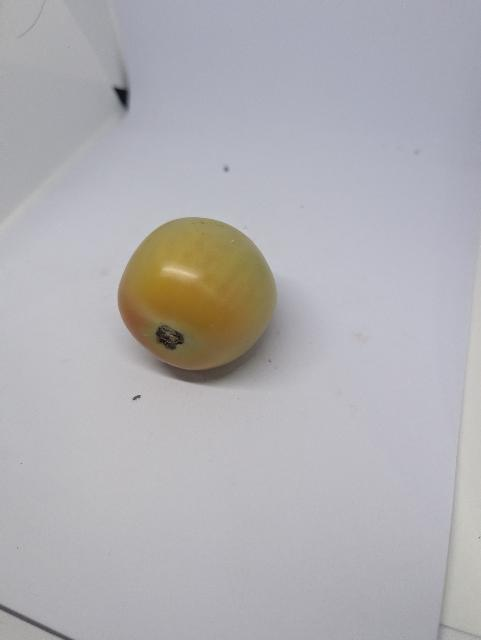breaker: (118, 217, 277, 370)
